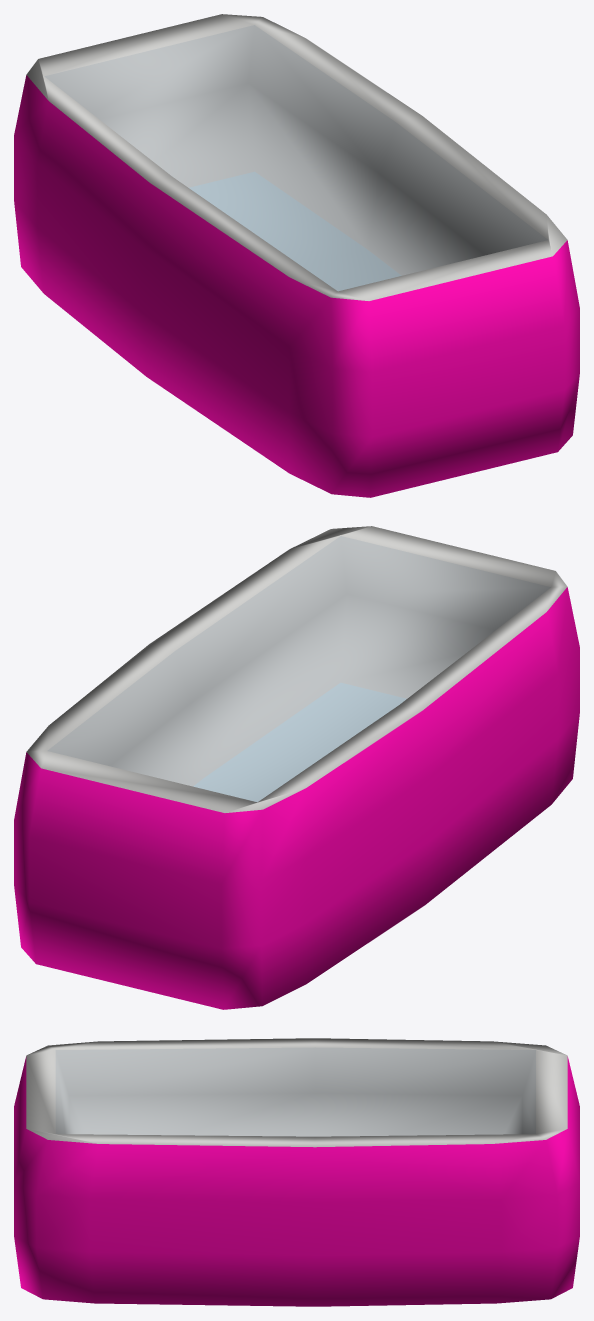
Rendered from bathtub.fbx.
The picture shows the model from 3 angles, top to bottom: view 1: azimuth 30°, elevation 25°; view 2: azimuth 150°, elevation 25°; view 3: azimuth 270°, elevation 25°; orthographic projection. The views are drawn at different scales.
Parts seen in each view (by area): view 1: pCube1; view 2: pCube1; view 3: pCube1.
Part boxes in pixels (<box>): pCube1: <box>14,14,579,497</box>; pCube1: <box>14,526,579,1009</box>; pCube1: <box>14,1038,579,1306</box>.
Bounding box in the file's own units: 3.23 × 2.09 × 6.77.
